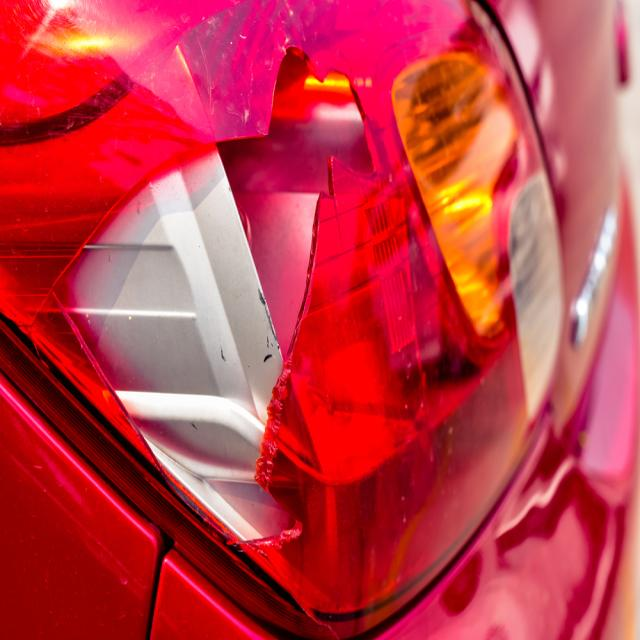Phare abime: (1, 28, 451, 566)
